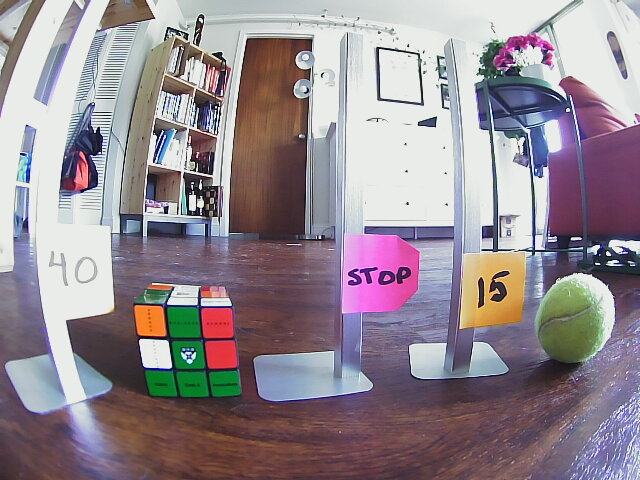15: (462, 255, 522, 322)
40: (38, 222, 112, 311)
ball: (537, 274, 616, 362)
cube: (135, 282, 240, 398)
stop: (342, 231, 417, 309)
